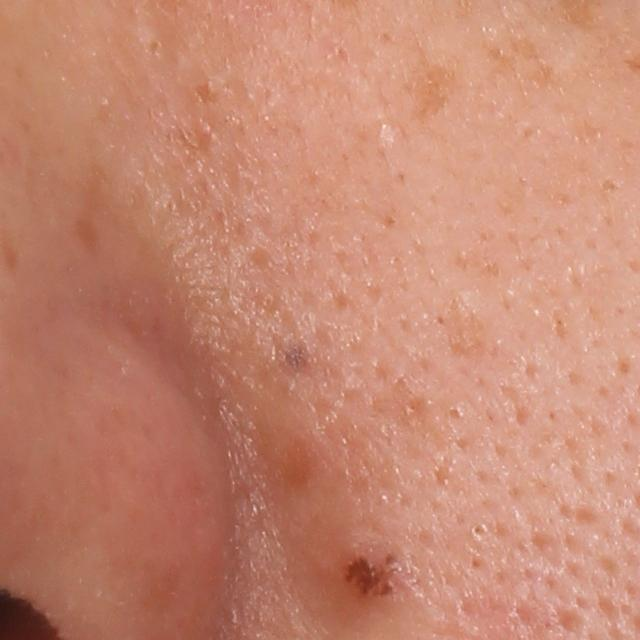atrophic_scar: (436, 293, 485, 368)
comedo: (468, 517, 493, 544)
melasma: (258, 308, 339, 412), (403, 49, 470, 130), (503, 28, 566, 96), (480, 37, 521, 87)
nevus: (332, 524, 415, 619)
